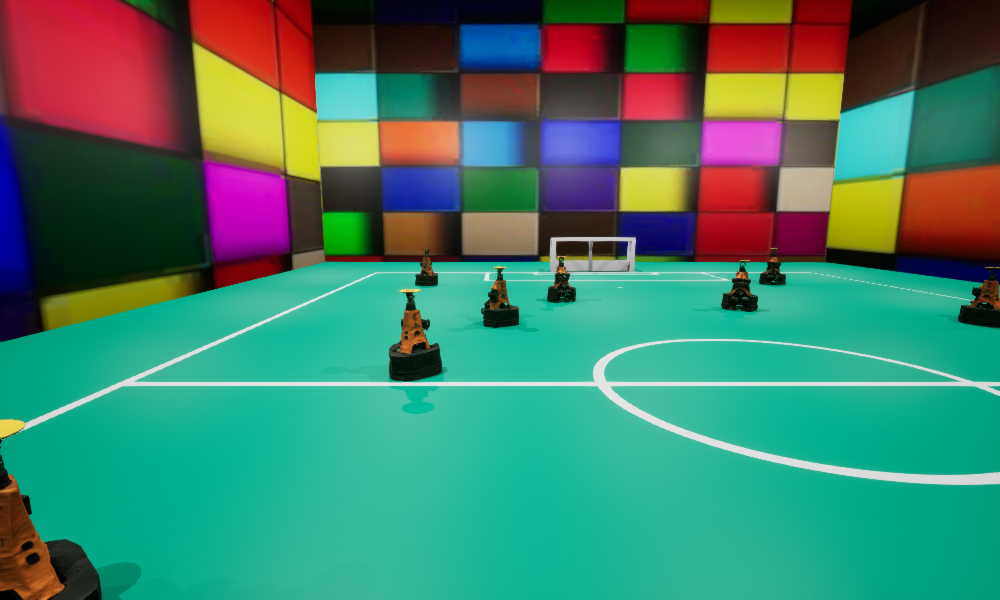o: (0, 419, 101, 599), (389, 289, 441, 381), (958, 267, 999, 327), (481, 266, 518, 326), (721, 260, 757, 310), (547, 256, 575, 302), (759, 248, 785, 284), (415, 249, 437, 285)
